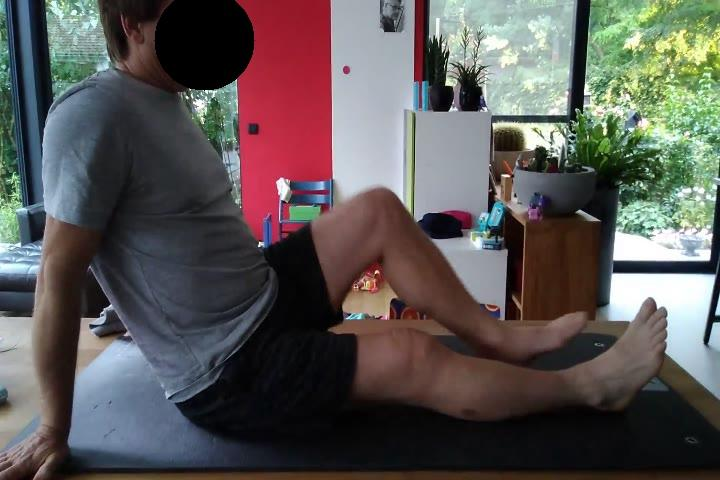lower_body: (175, 185, 671, 430)
